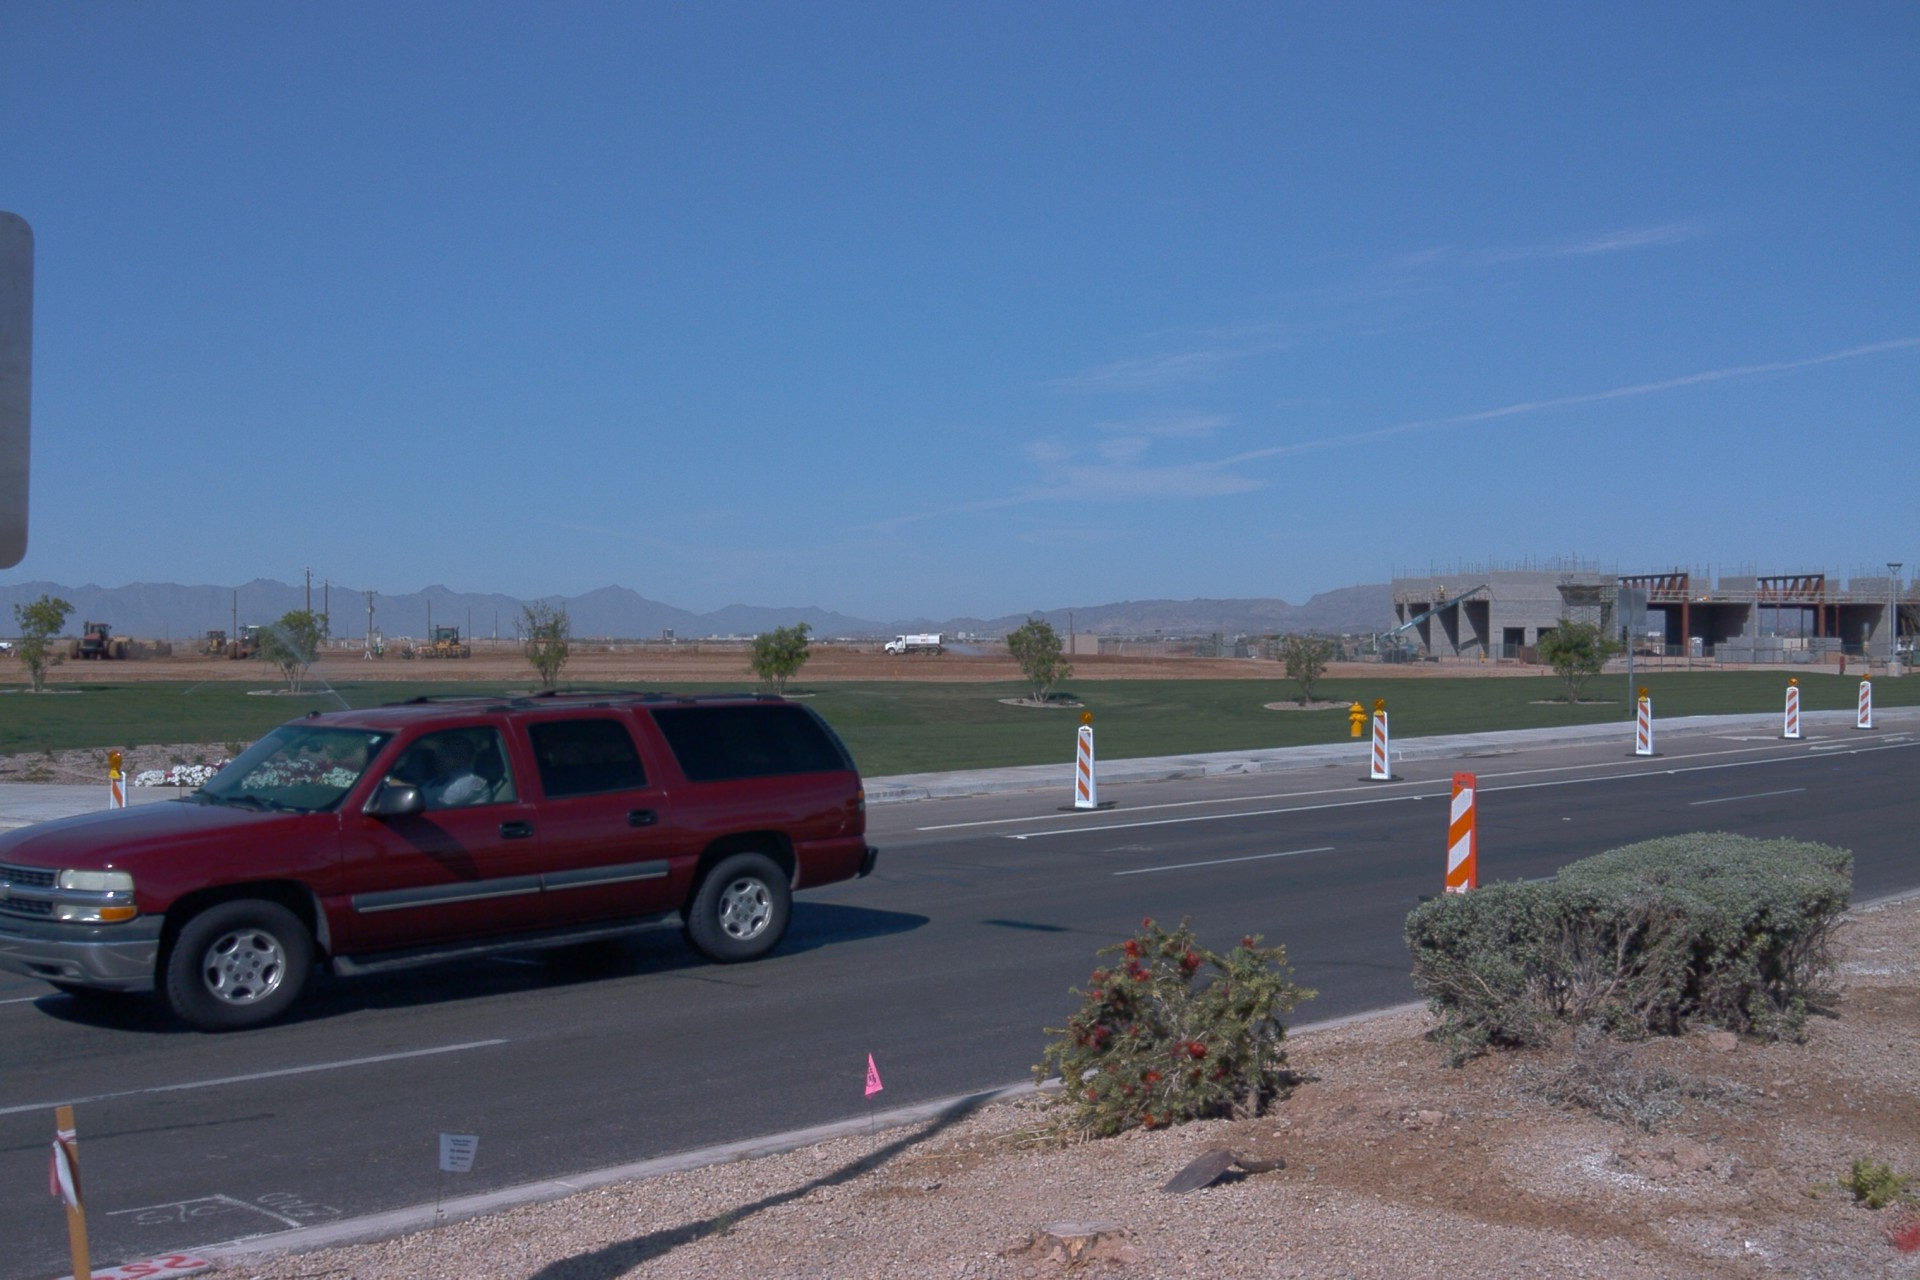TYPE_PEDESTRIAN: (417, 645, 427, 662), (375, 642, 384, 660)
TYPE_VEHICLE: (1, 686, 884, 1036), (1370, 582, 1491, 657), (66, 622, 123, 665), (225, 624, 273, 663), (883, 634, 948, 662), (205, 628, 229, 656), (0, 639, 11, 654)
